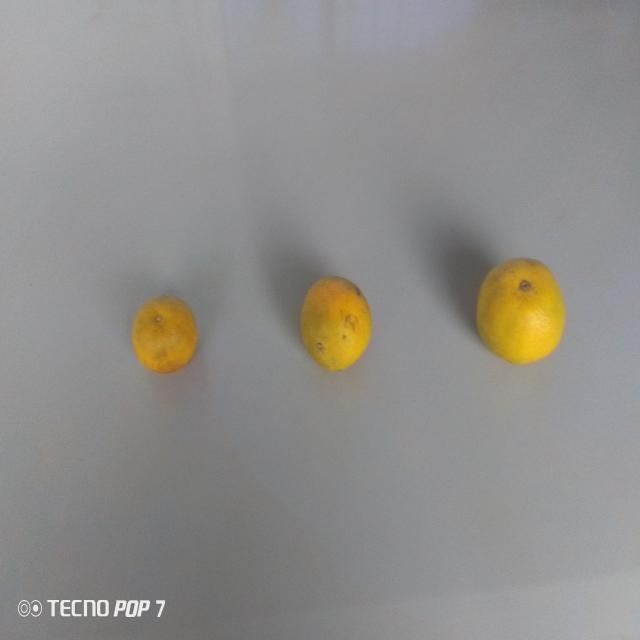agrume: (470, 255, 574, 369), (296, 271, 377, 377), (129, 285, 199, 380)
